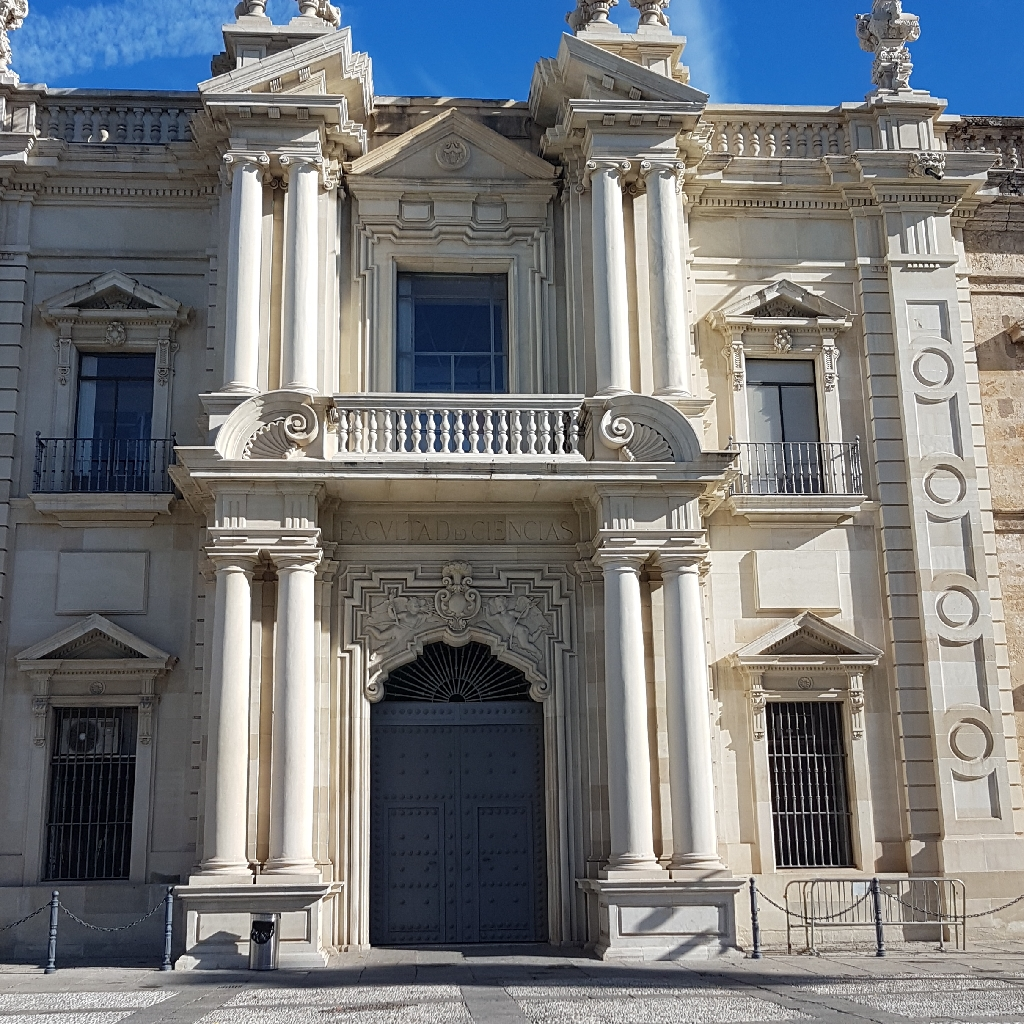fronton: (339, 105, 560, 194), (18, 615, 178, 680), (729, 612, 885, 672), (36, 267, 187, 325), (714, 277, 856, 331)
fronton-partido: (211, 387, 705, 490), (198, 27, 711, 121)
vano-adintelado: (383, 245, 526, 456), (25, 687, 161, 884), (745, 689, 873, 873), (725, 334, 853, 497), (50, 339, 170, 490)
